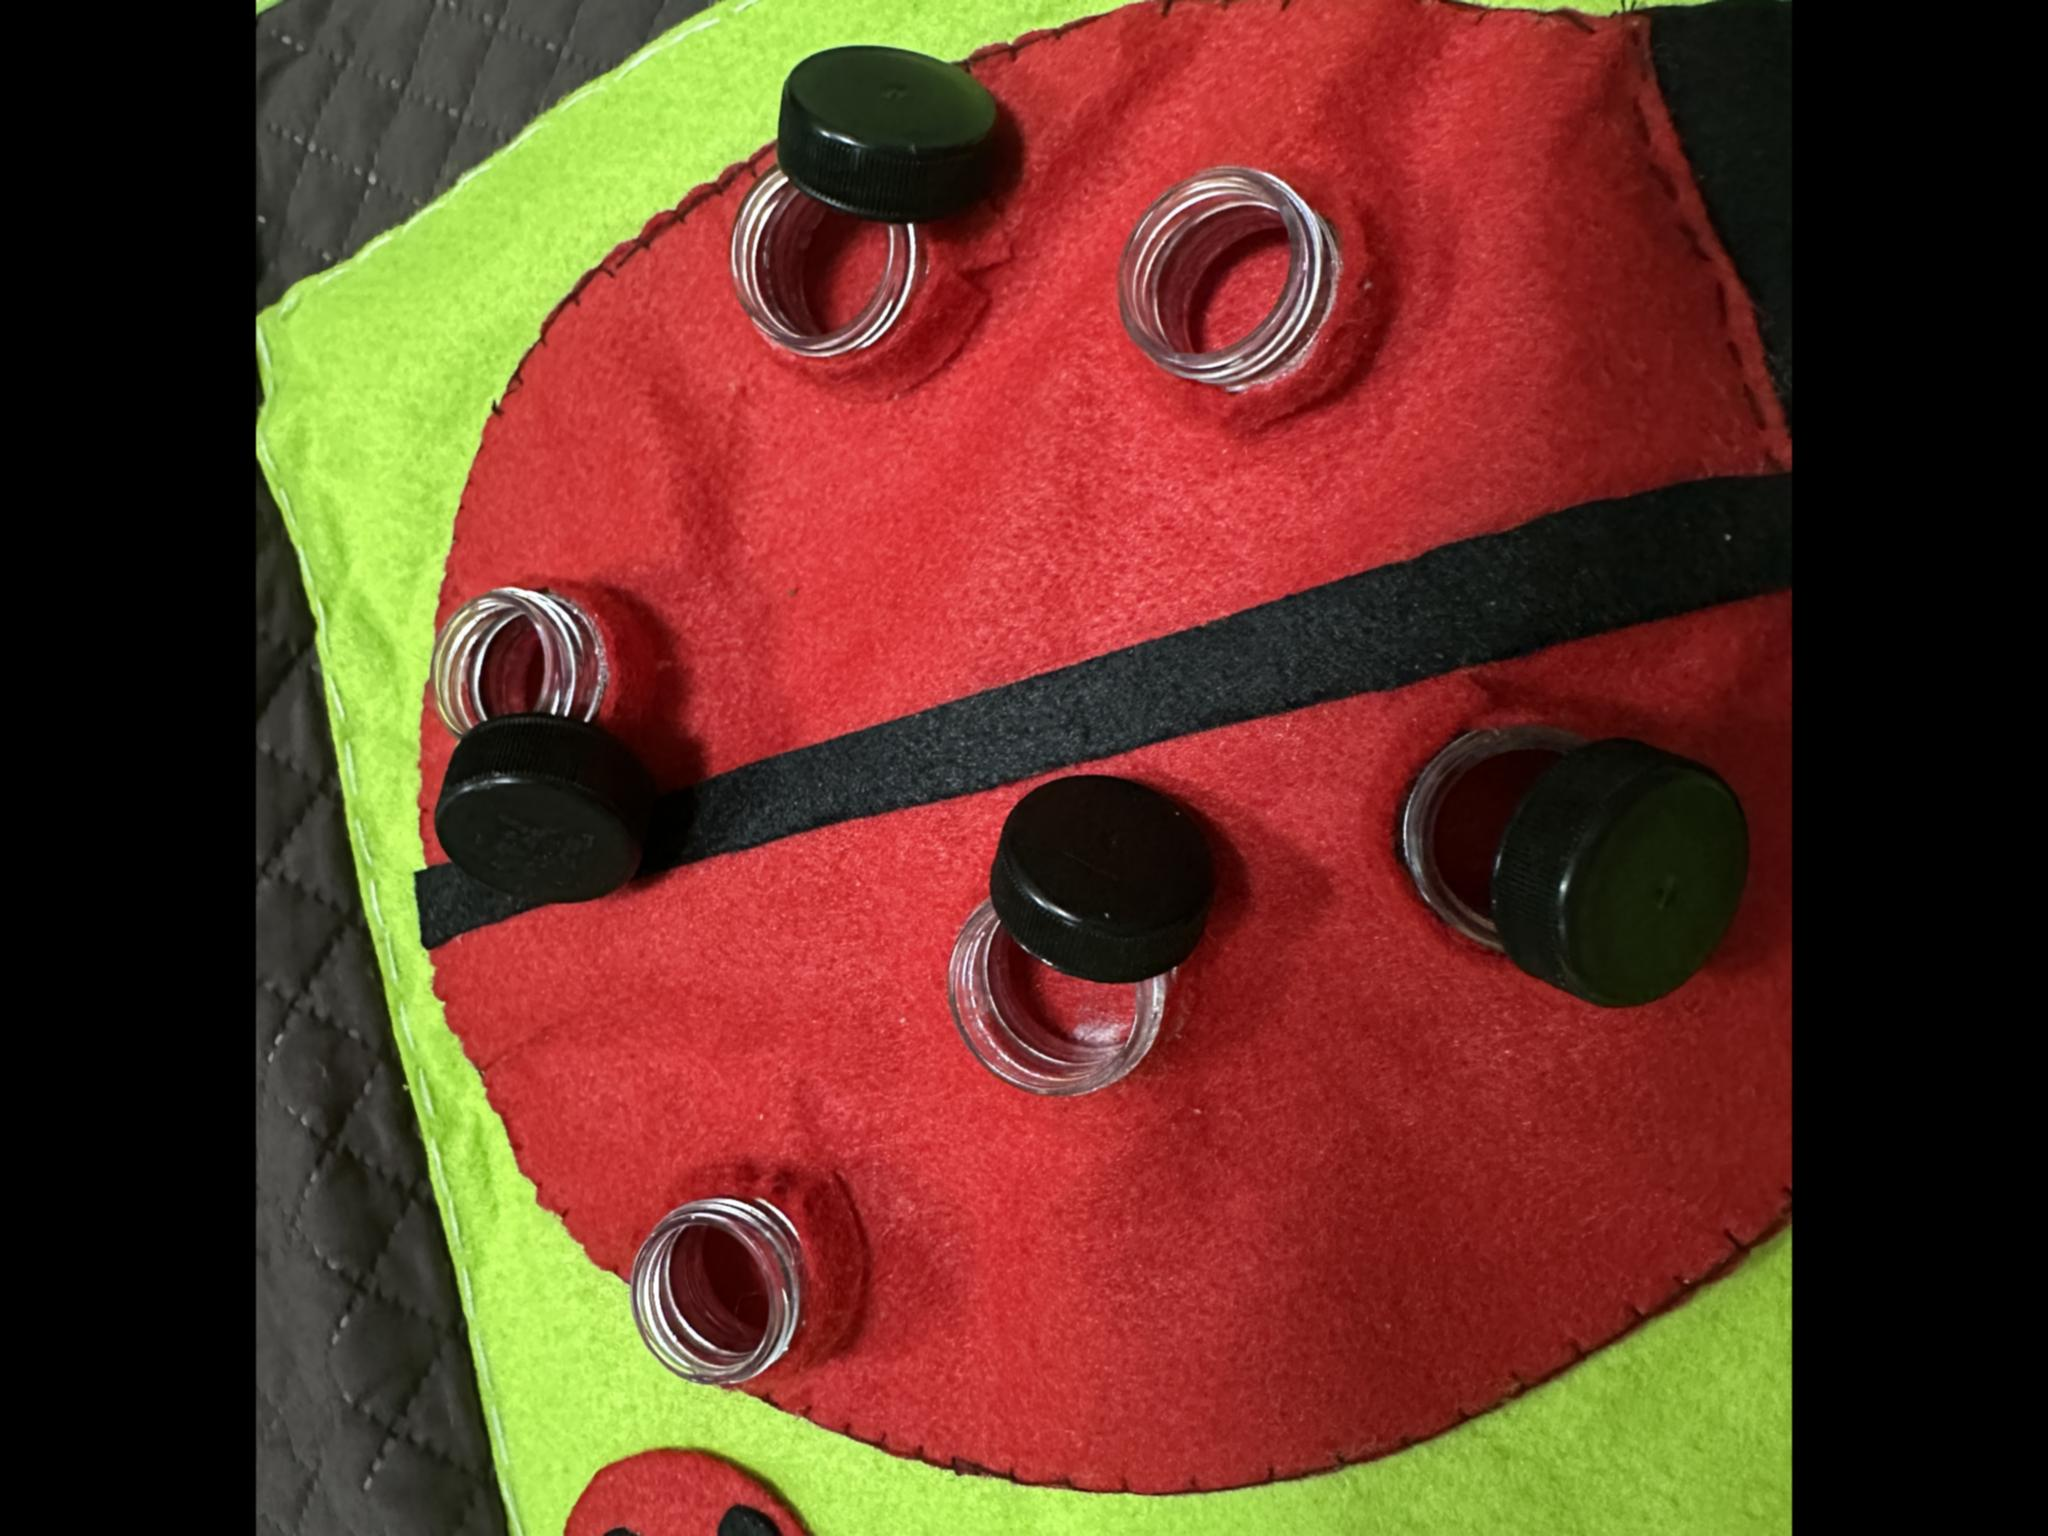cap_ng: (1355, 708, 1756, 1015), (713, 24, 1032, 400), (400, 557, 685, 939), (932, 766, 1240, 1102)
